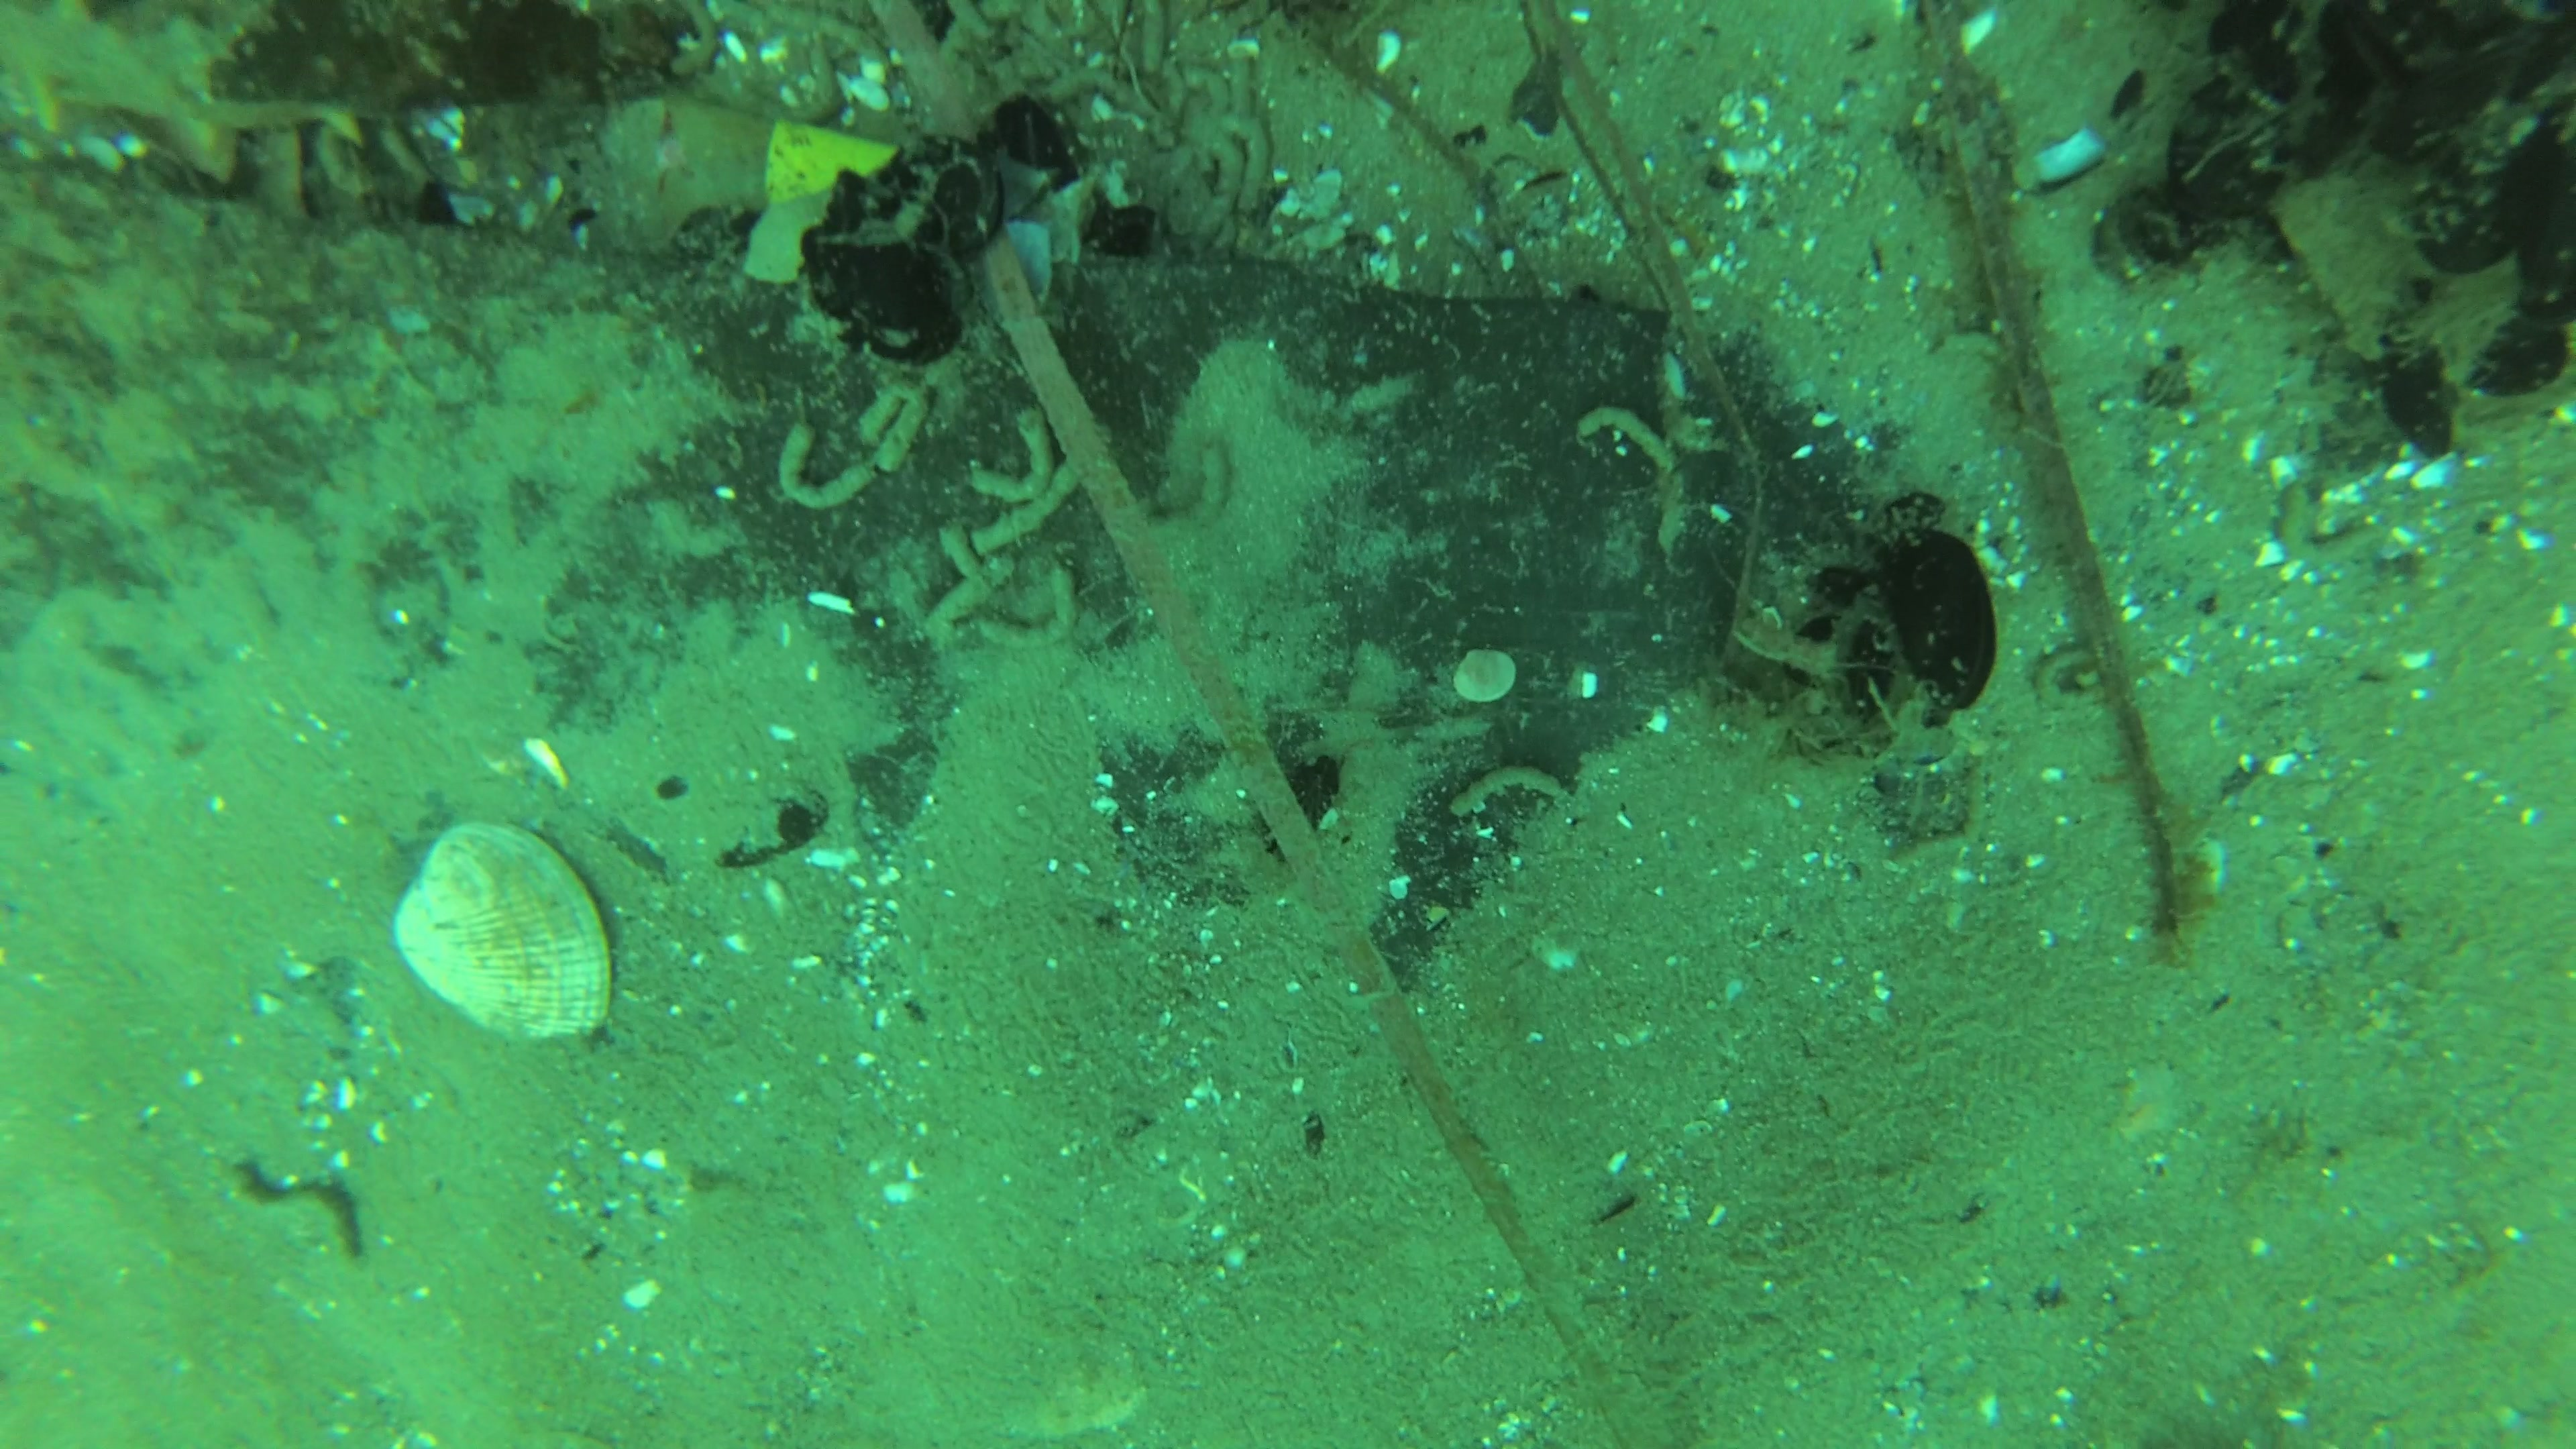scallop: (386, 814, 616, 1047), (1453, 644, 1516, 709)
